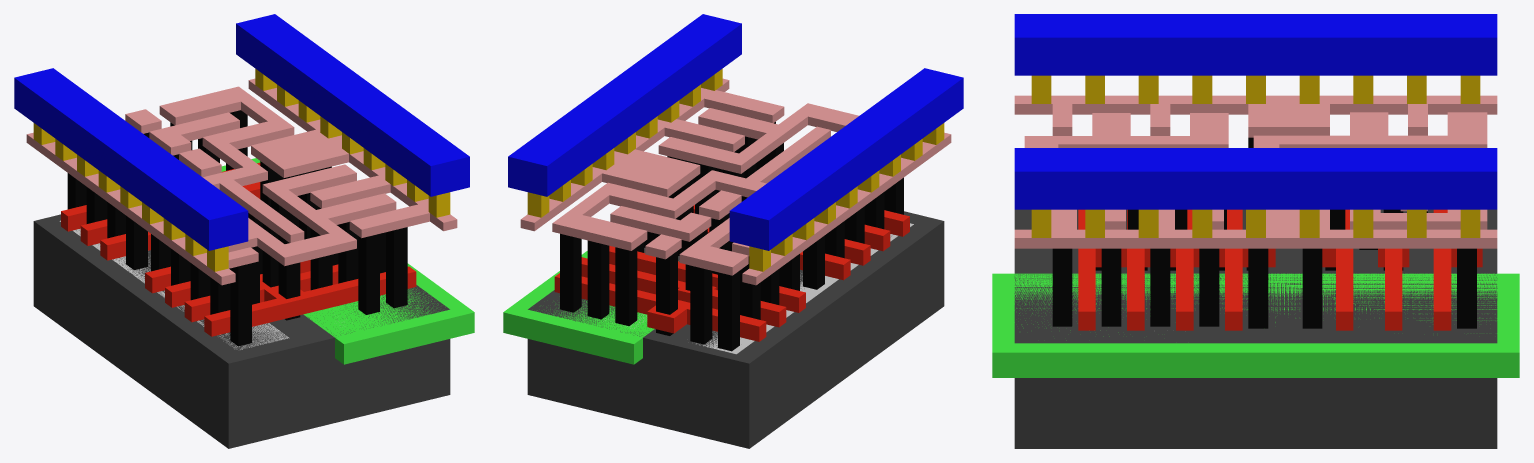
File: sky130_fd_sc_hd__or3_4.obj
3 renders of one model, left to right at view 1: azimuth 30°, elevation 25°; view 2: azimuth 150°, elevation 25°; view 3: azimuth 270°, elevation 25°, orthographic. The views are drawn at different scales.
Parts seen in each view (by area): view 1: subs, metal1, li, licon, poly, nwell, mcon, diff; view 2: subs, metal1, li, licon, poly, nwell, mcon, diff; view 3: metal1, subs, li, nwell, poly, licon, mcon.
Boxes of the visible parts, x1,y1,x2,y2 form: subs: [33, 214, 450, 448]; metal1: [14, 14, 469, 250]; li: [26, 78, 457, 285]; licon: [67, 110, 407, 346]; poly: [61, 162, 416, 336]; nwell: [221, 158, 474, 364]; mcon: [33, 68, 450, 271]; diff: [59, 220, 289, 349]; subs: [527, 211, 944, 448]; metal1: [508, 14, 963, 250]; li: [520, 78, 951, 285]; licon: [560, 122, 903, 351]; poly: [554, 205, 909, 341]; nwell: [503, 251, 654, 364]; mcon: [527, 68, 944, 271]; diff: [696, 223, 913, 354]; metal1: [1014, 14, 1497, 209]; subs: [1014, 209, 1497, 448]; li: [1014, 95, 1497, 248]; nwell: [992, 273, 1519, 377]; poly: [1078, 209, 1482, 330]; licon: [1052, 137, 1476, 328]; mcon: [1031, 75, 1480, 237].
Size of the model in its own units: 3.2 by 2.74 by 4.52.
